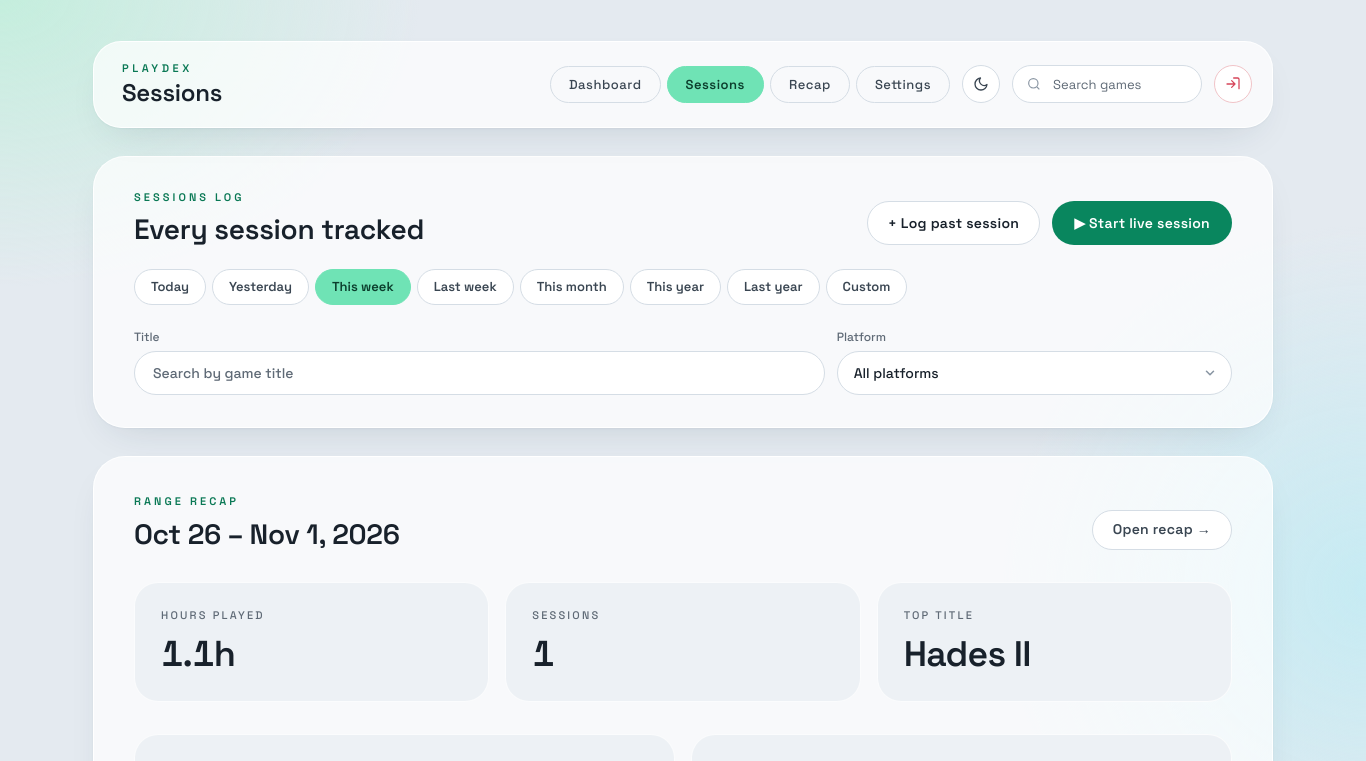
it: SessionsPage › opens the session creator
What coordinates should you click on to do the following:
click the button "+ Log past session"
I would click on:
 (954, 223)
Its box is [867,201,1040,245].
(page scrolled)
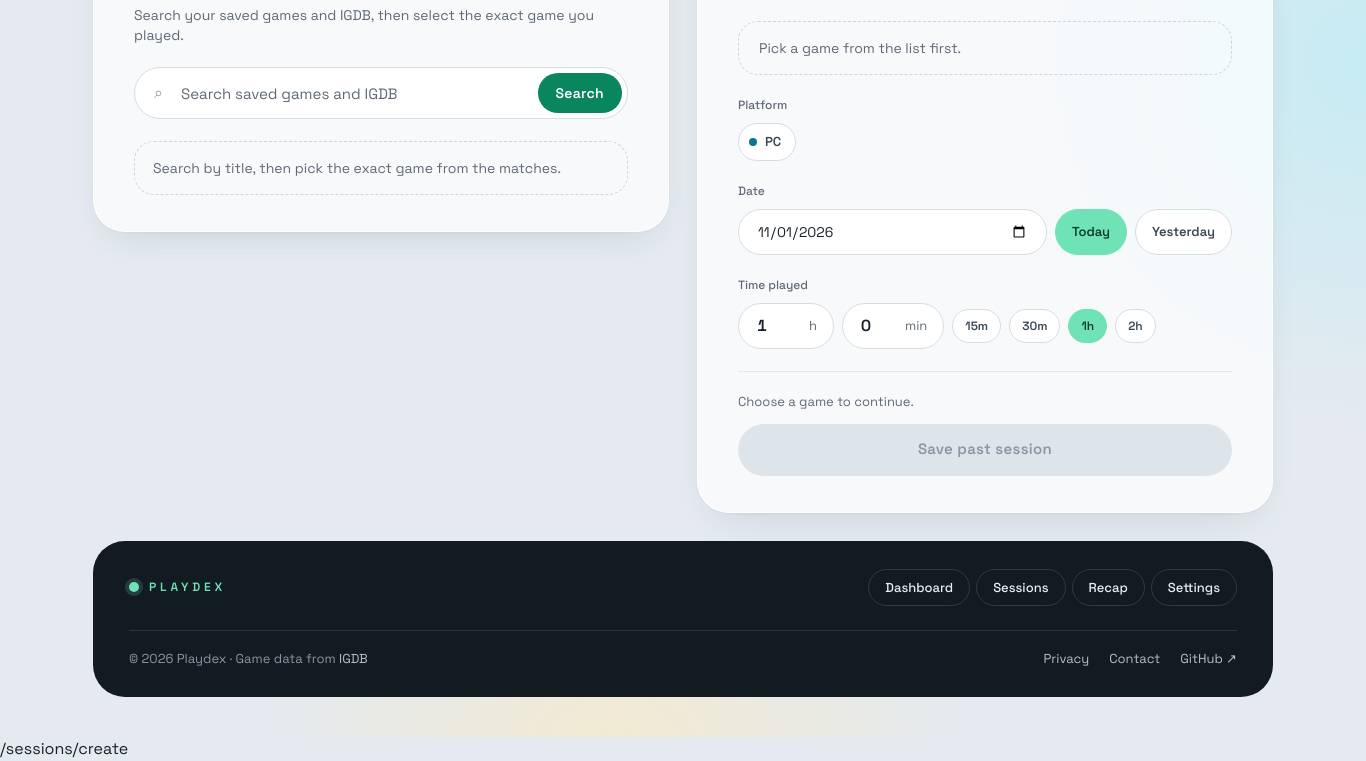
Expected: the text with test id "location" reads "/sessions/create", [0,738,128,759]
